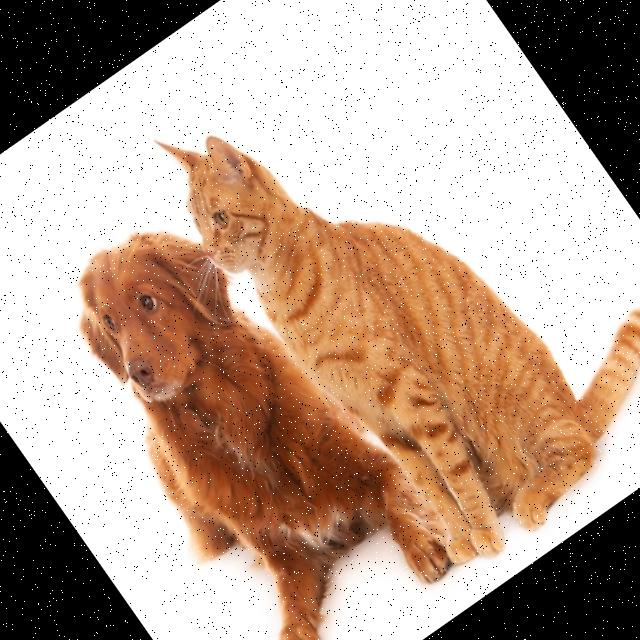Dog: (21, 179, 467, 640)
